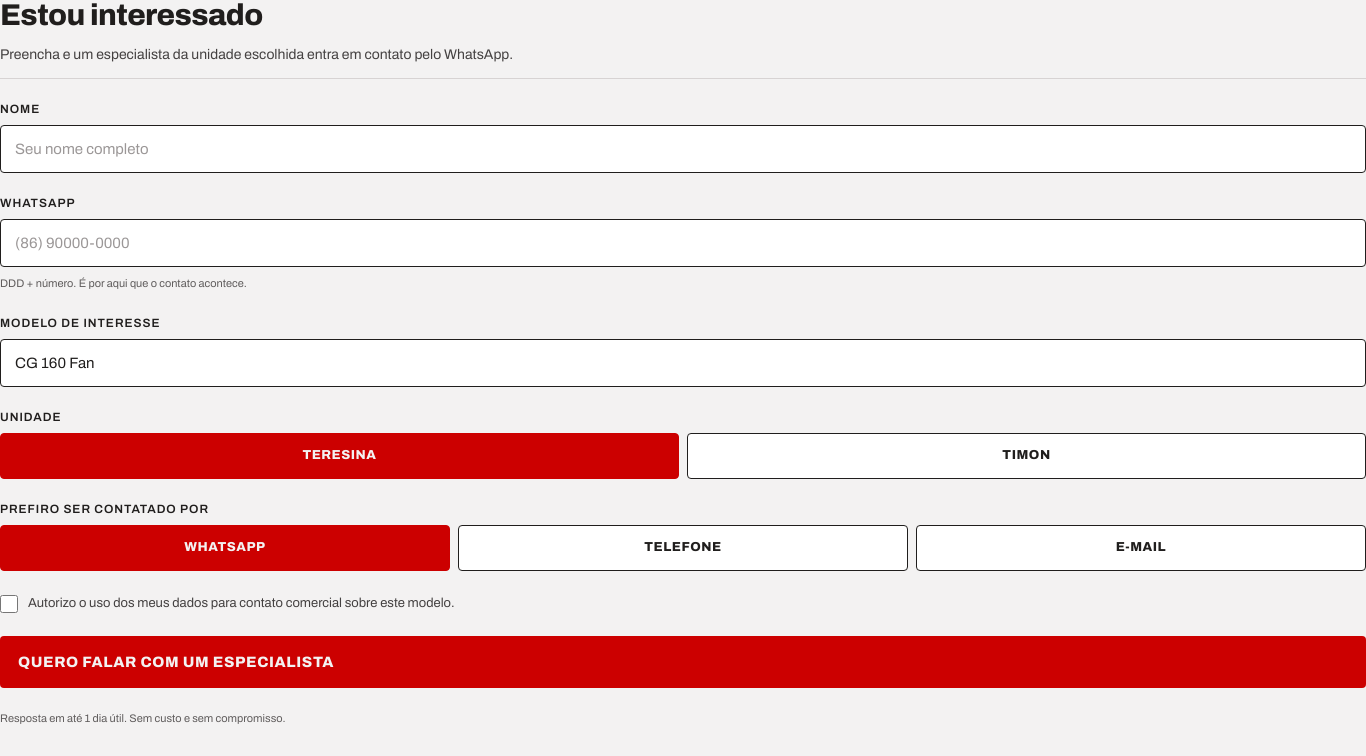
envio › repassa os erros por campo que o servidor devolver
Type "Ricardo Menezes" into the field labelled "Nome" at (683, 149), box [0,125,1365,173]
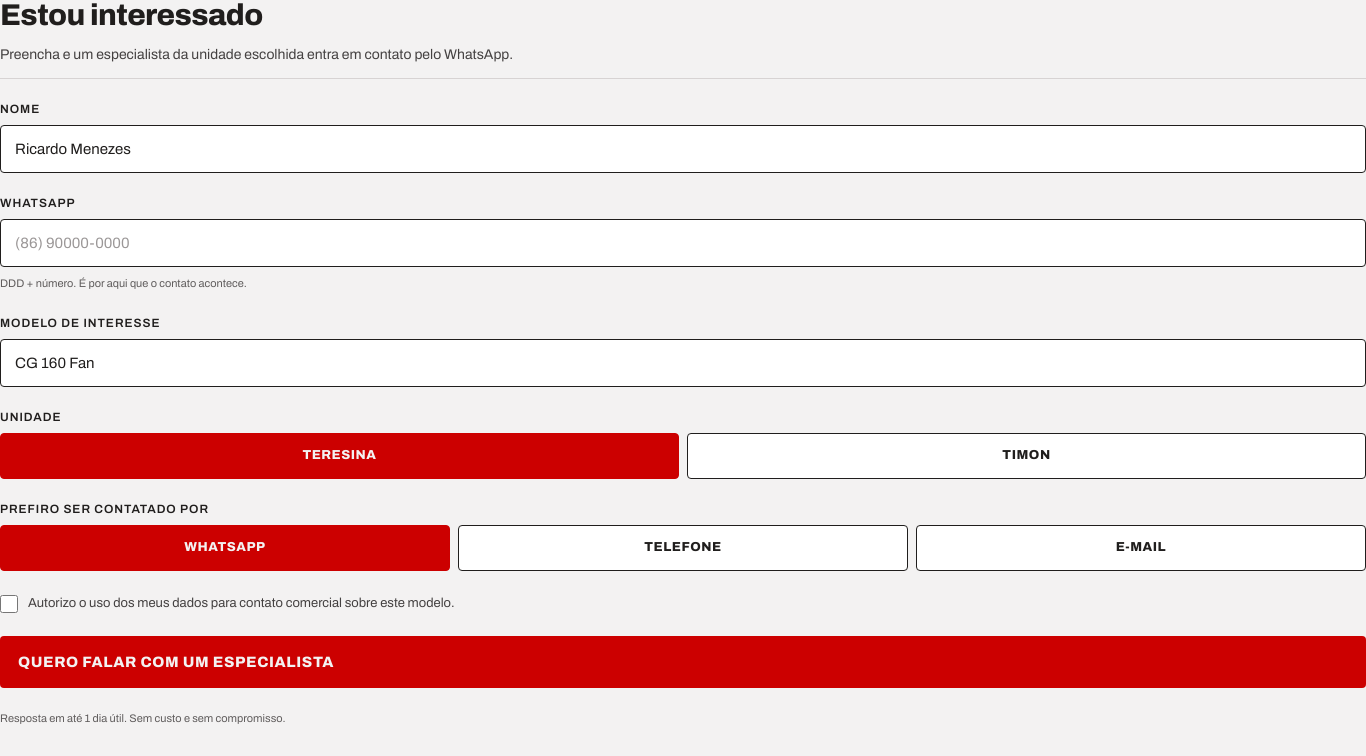
Type "86998124471" into the field labelled "WhatsApp" at (683, 243), box [0,219,1365,267]
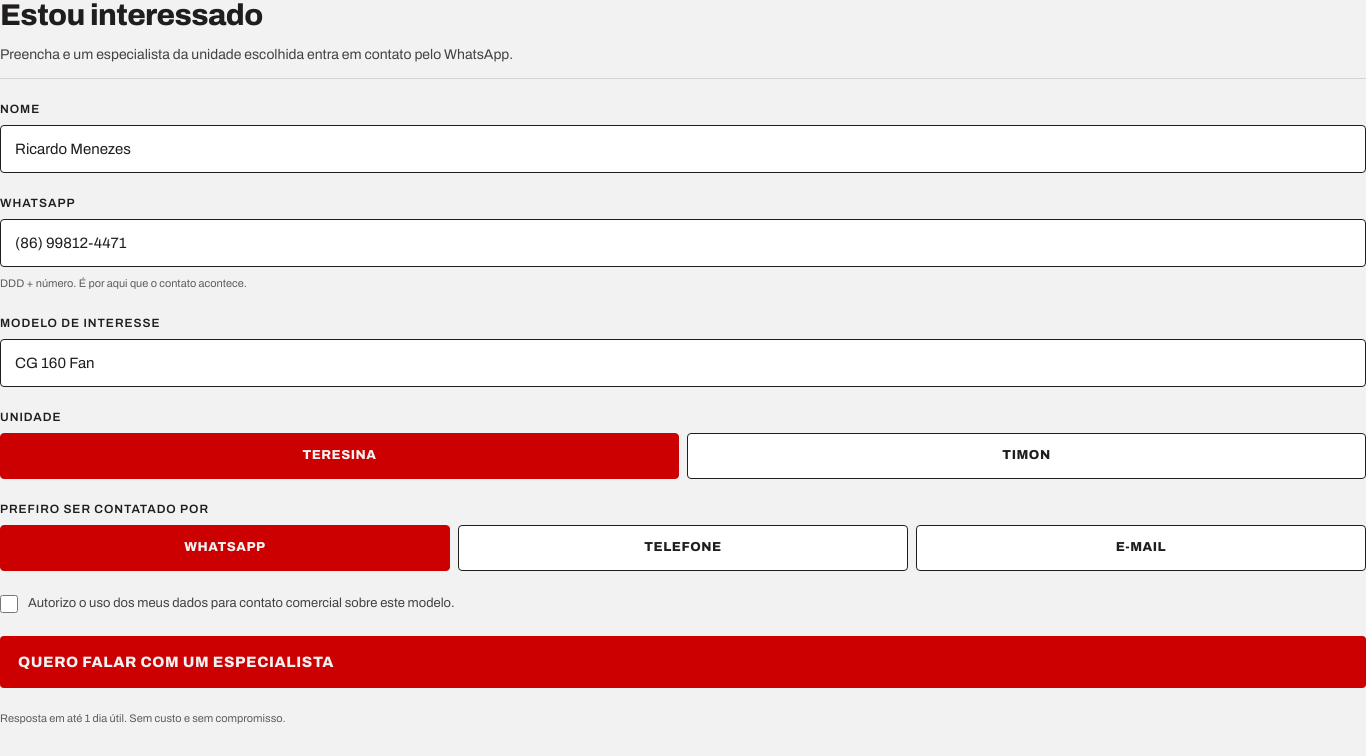
Click the checkbox at (9, 604), box [0,595,18,613]
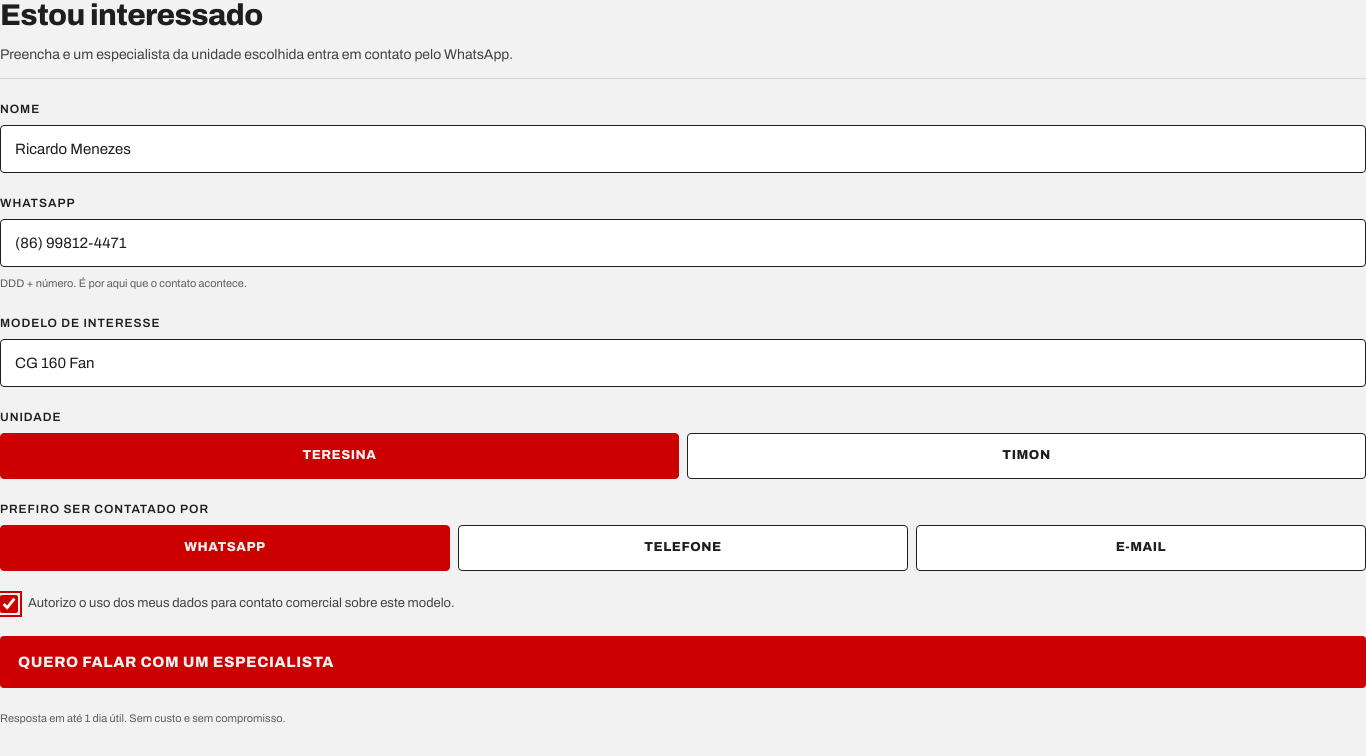
Click the button "Quero falar com um especialista" at (176, 662), box [0,636,1365,688]
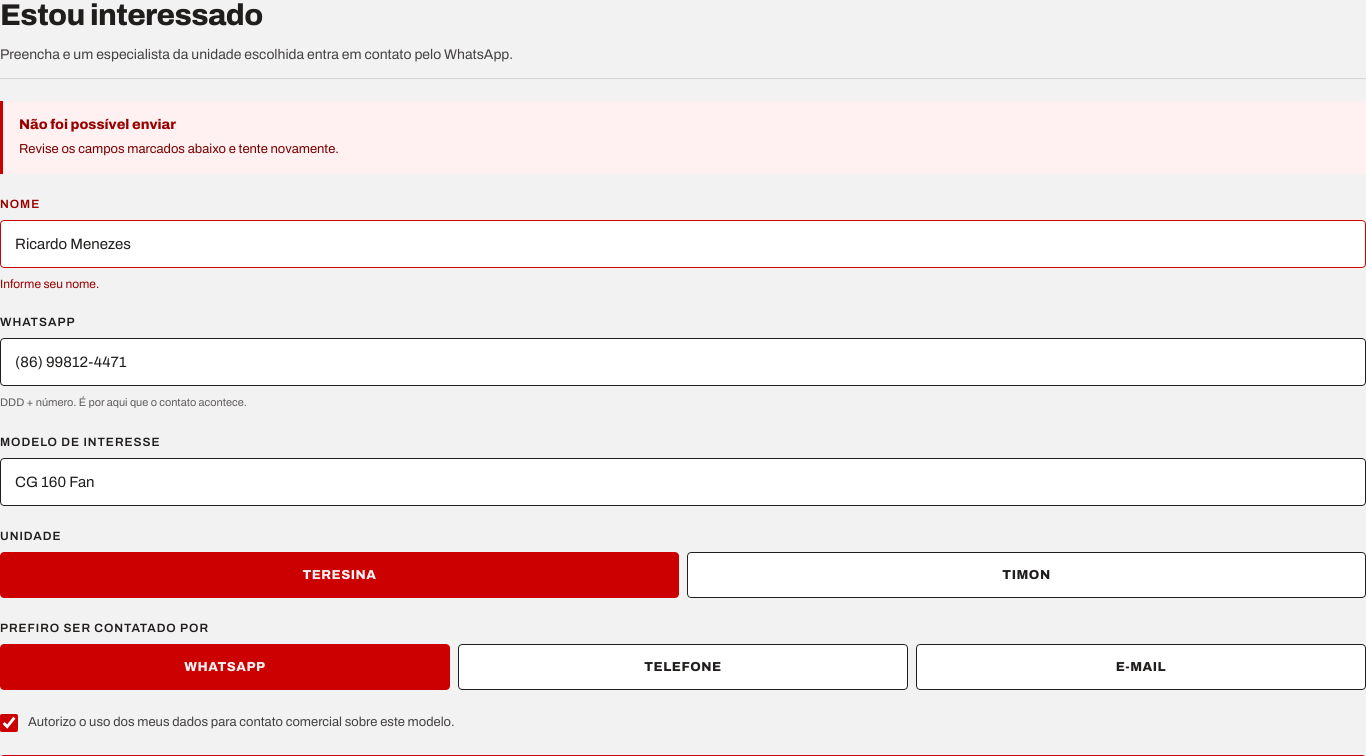
Result: the text "Informe seu nome." is shown at [0,277,99,291]
